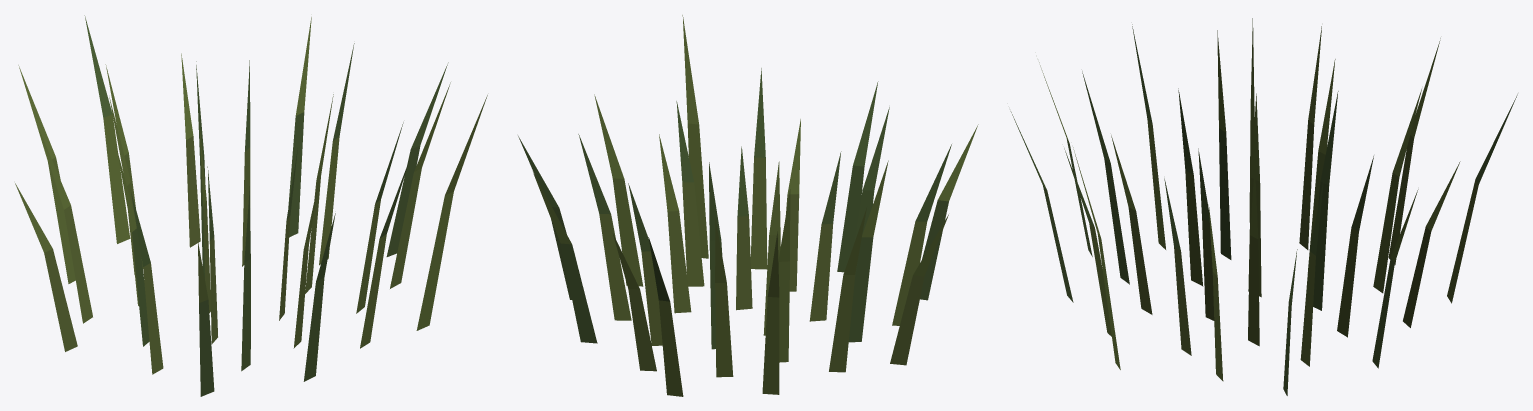
File: reed_clump.glb
3 renders of one model, left to right at view 1: azimuth 30°, elevation 25°; view 2: azimuth 150°, elevation 25°; view 3: azimuth 270°, elevation 25°, orthographic. The views are drawn at different scales.
Visible parts, largest first — view 1: reed_clump; view 2: reed_clump; view 3: reed_clump.
Boxes of the visible parts, <box> form: reed_clump: <box>15,15,487,396</box>; reed_clump: <box>518,15,978,396</box>; reed_clump: <box>1010,18,1517,395</box>.
Bounding box in the file's own units: 2.8 × 1.42 × 2.69.
